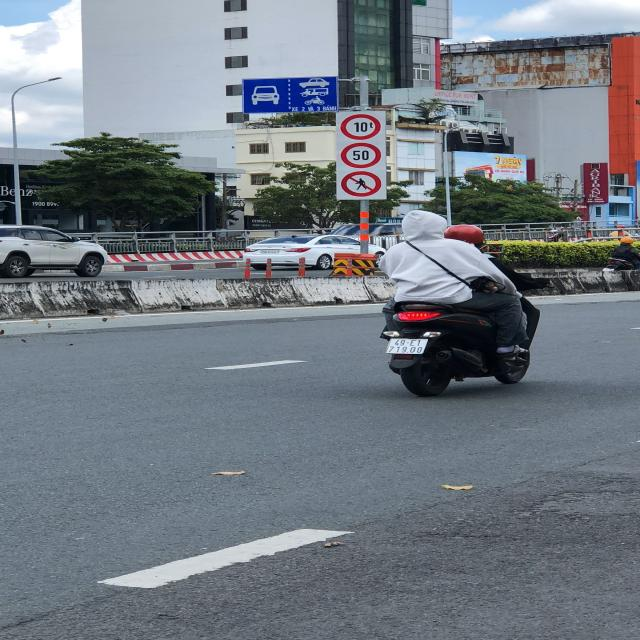Bien bao cam nguoi di bo: (338, 170, 383, 198)
Bien bao toc do toi da cho phep: (333, 141, 387, 169)
